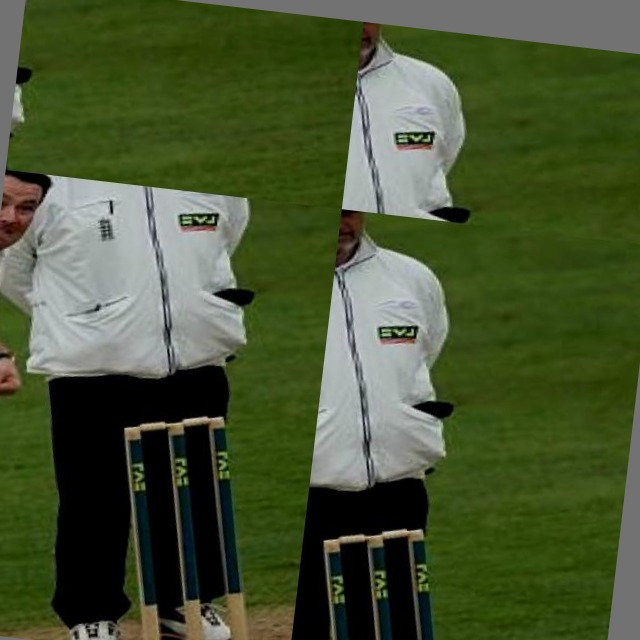No_Action: (288, 209, 570, 640), (342, 95, 509, 227)
Out: (6, 0, 364, 209)
Six: (0, 170, 327, 640)
